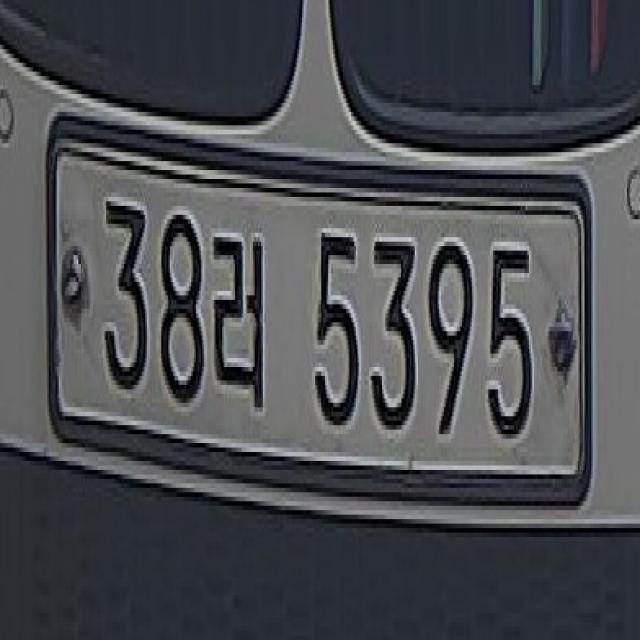3: (98, 188, 152, 407), (374, 228, 418, 448)
5: (482, 228, 534, 448), (312, 214, 362, 438)
8: (154, 206, 206, 416)
9: (424, 228, 474, 439)
leo: (209, 219, 266, 421)
license_plate: (49, 116, 586, 524)
